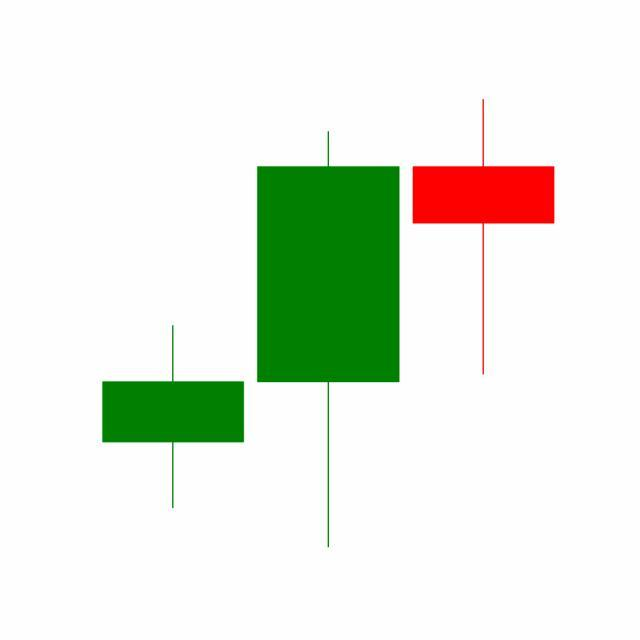Spinning Top: (406, 97, 562, 379)
